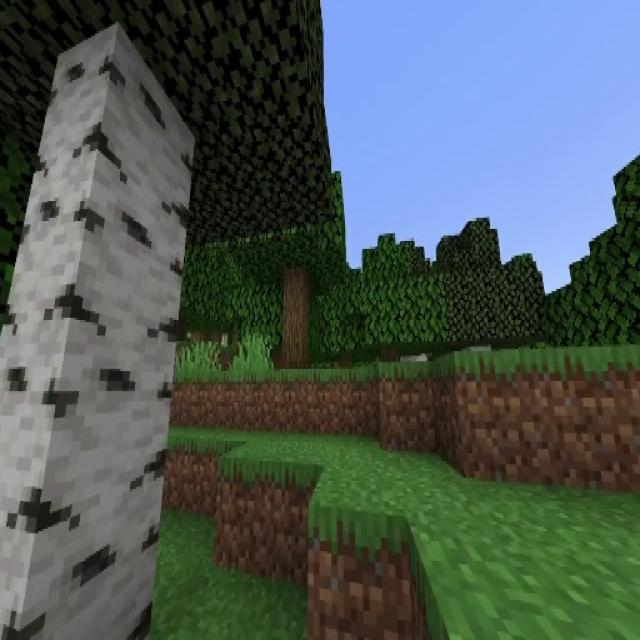birch: (0, 0, 333, 640)
birch_log: (0, 22, 193, 640)
oak: (238, 164, 344, 366)
oak_log: (284, 270, 311, 359)
